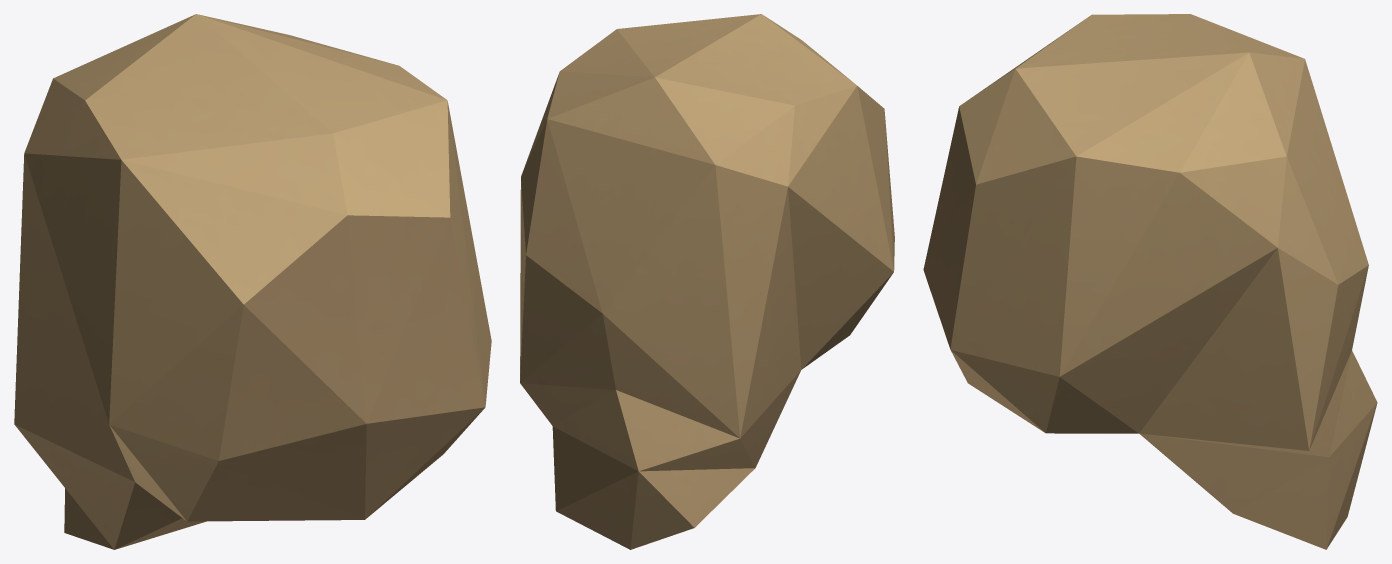
File: Skull_1_LOD.fbx
The picture shows the model from 3 angles, left to right: view 1: azimuth 30°, elevation 25°; view 2: azimuth 150°, elevation 25°; view 3: azimuth 270°, elevation 25°; orthographic projection. The views are drawn at different scales.
Parts seen in each view (by area): view 1: Group52997; view 2: Group52997; view 3: Group52997.
Boxes of the visible parts, x1=… form: Group52997: x1=14, y1=14, x2=491, y2=549; Group52997: x1=520, y1=14, x2=894, y2=549; Group52997: x1=923, y1=14, x2=1377, y2=549.
Size of the model in its own units: 0.7423 by 1.04 by 0.8977.
